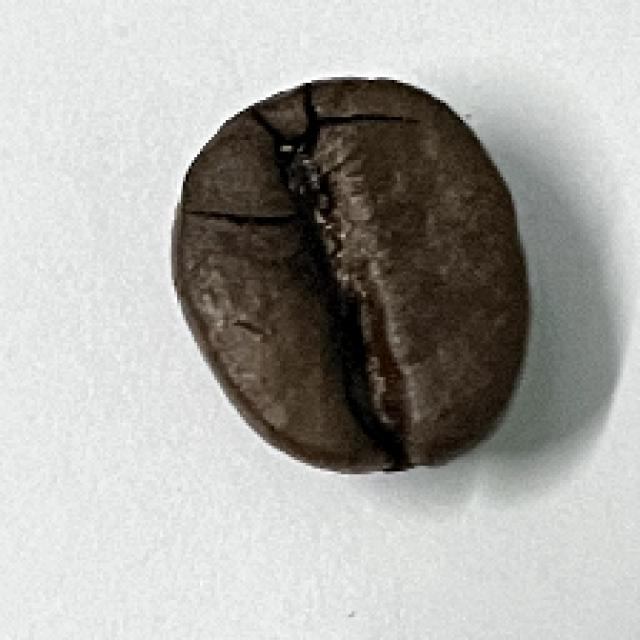bean: (166, 73, 534, 476)
